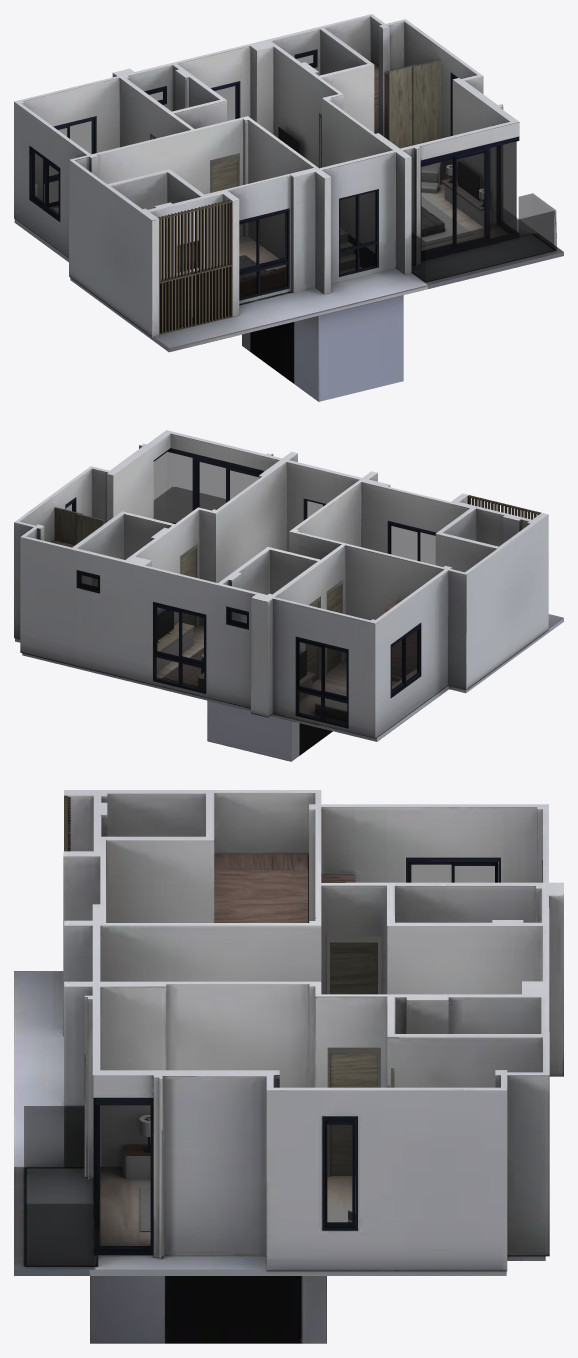
The model's file is 2508_Floor2_Baked_v01.gltf.
3 views of the same model, one above another, from view 1: azimuth 30°, elevation 25°; view 2: azimuth 150°, elevation 25°; view 3: azimuth 270°, elevation 25° (orthographic). The views are drawn at different scales.
Parts seen in each view (by area): view 1: wall, floor.001, mirrorwindow, Cube.015, windowfame9, pasted__adoor6, pCube20, polySurface48, carboard, pasted__stair; view 2: wall, mirrorwindow, floor.001, windowfame9, pasted__adoor6, pCube4, pCube3, carboard, Cube.015; view 3: wall, floor.001, mirrorwindow, carboard, pasted__adoor6, windowfame9, pasted__tv1, doorfame5, doorfame4.
Boxes of the visible parts, x1,y1,x2,y2 form: wall: (14,14,519,337); floor.001: (14,165,563,401); mirrorwindow: (34,55,556,297); Cube.015: (158,200,232,334); windowfame9: (29,49,519,300); pasted__adoor6: (153,59,440,192); pCube20: (421,160,492,246); polySurface48: (239,206,445,296); carboard: (369,60,388,139); pasted__stair: (340,229,362,273); wall: (14,430,548,739); mirrorwindow: (66,452,435,724); floor.001: (15,523,563,761); windowfame9: (65,448,436,728); pasted__adoor6: (54,507,340,682); pCube4: (156,609,204,688); pCube3: (299,669,416,720); carboard: (53,540,416,678); Cube.015: (467,495,541,519); wall: (63,790,563,1271); floor.001: (14,971,545,1343); mirrorwindow: (24,864,498,1266); carboard: (214,853,354,922); pasted__adoor6: (330,942,394,1175); windowfame9: (93,857,500,1255); pasted__tv1: (122,1114,150,1178); doorfame5: (327,1047,380,1176); doorfame4: (327,936,380,994).
Size of the model in its own units: 8.52 by 4.72 by 6.6.
Materials: 16 (16 with a texture image).
